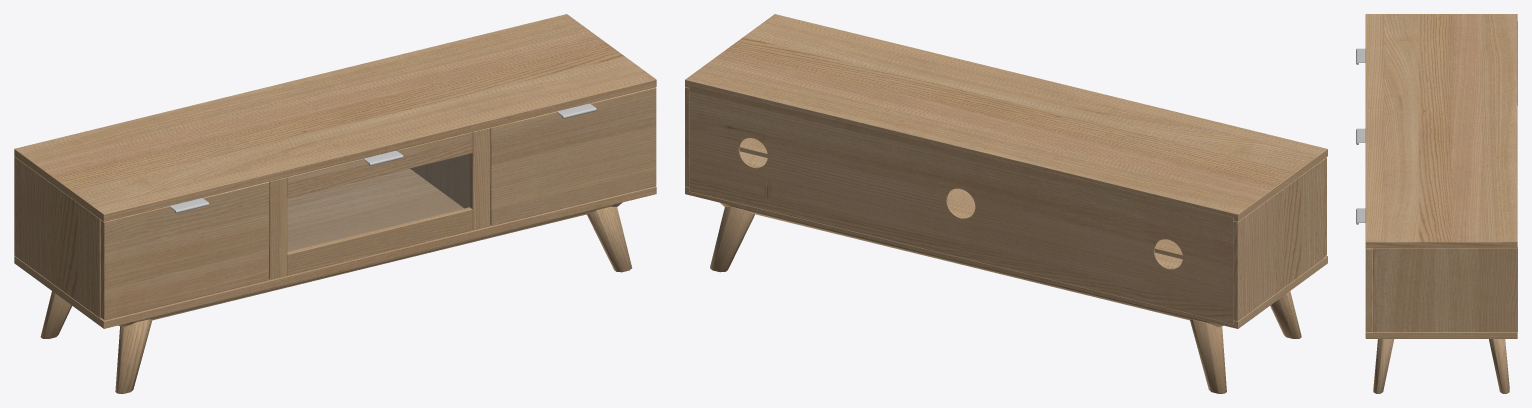
File: aveiro.gltf
3 views of the same model, side by side, from view 1: azimuth 30°, elevation 25°; view 2: azimuth 150°, elevation 25°; view 3: azimuth 270°, elevation 25° (orthographic). The views are drawn at different scales.
Parts seen in each view (by area): view 1: OAK, GLASS, HANDLE; view 2: OAK; view 3: OAK, HANDLE.
Part boxes in pixels (<box>): OAK: <box>14,14,656,393</box>; GLASS: <box>287,154,469,251</box>; HANDLE: <box>170,103,596,213</box>; OAK: <box>685,14,1327,393</box>; OAK: <box>1365,14,1517,393</box>; HANDLE: <box>1356,48,1365,224</box>.
Size of what is drawn, in the model's own units: 150 by 48.89 by 44.91.
